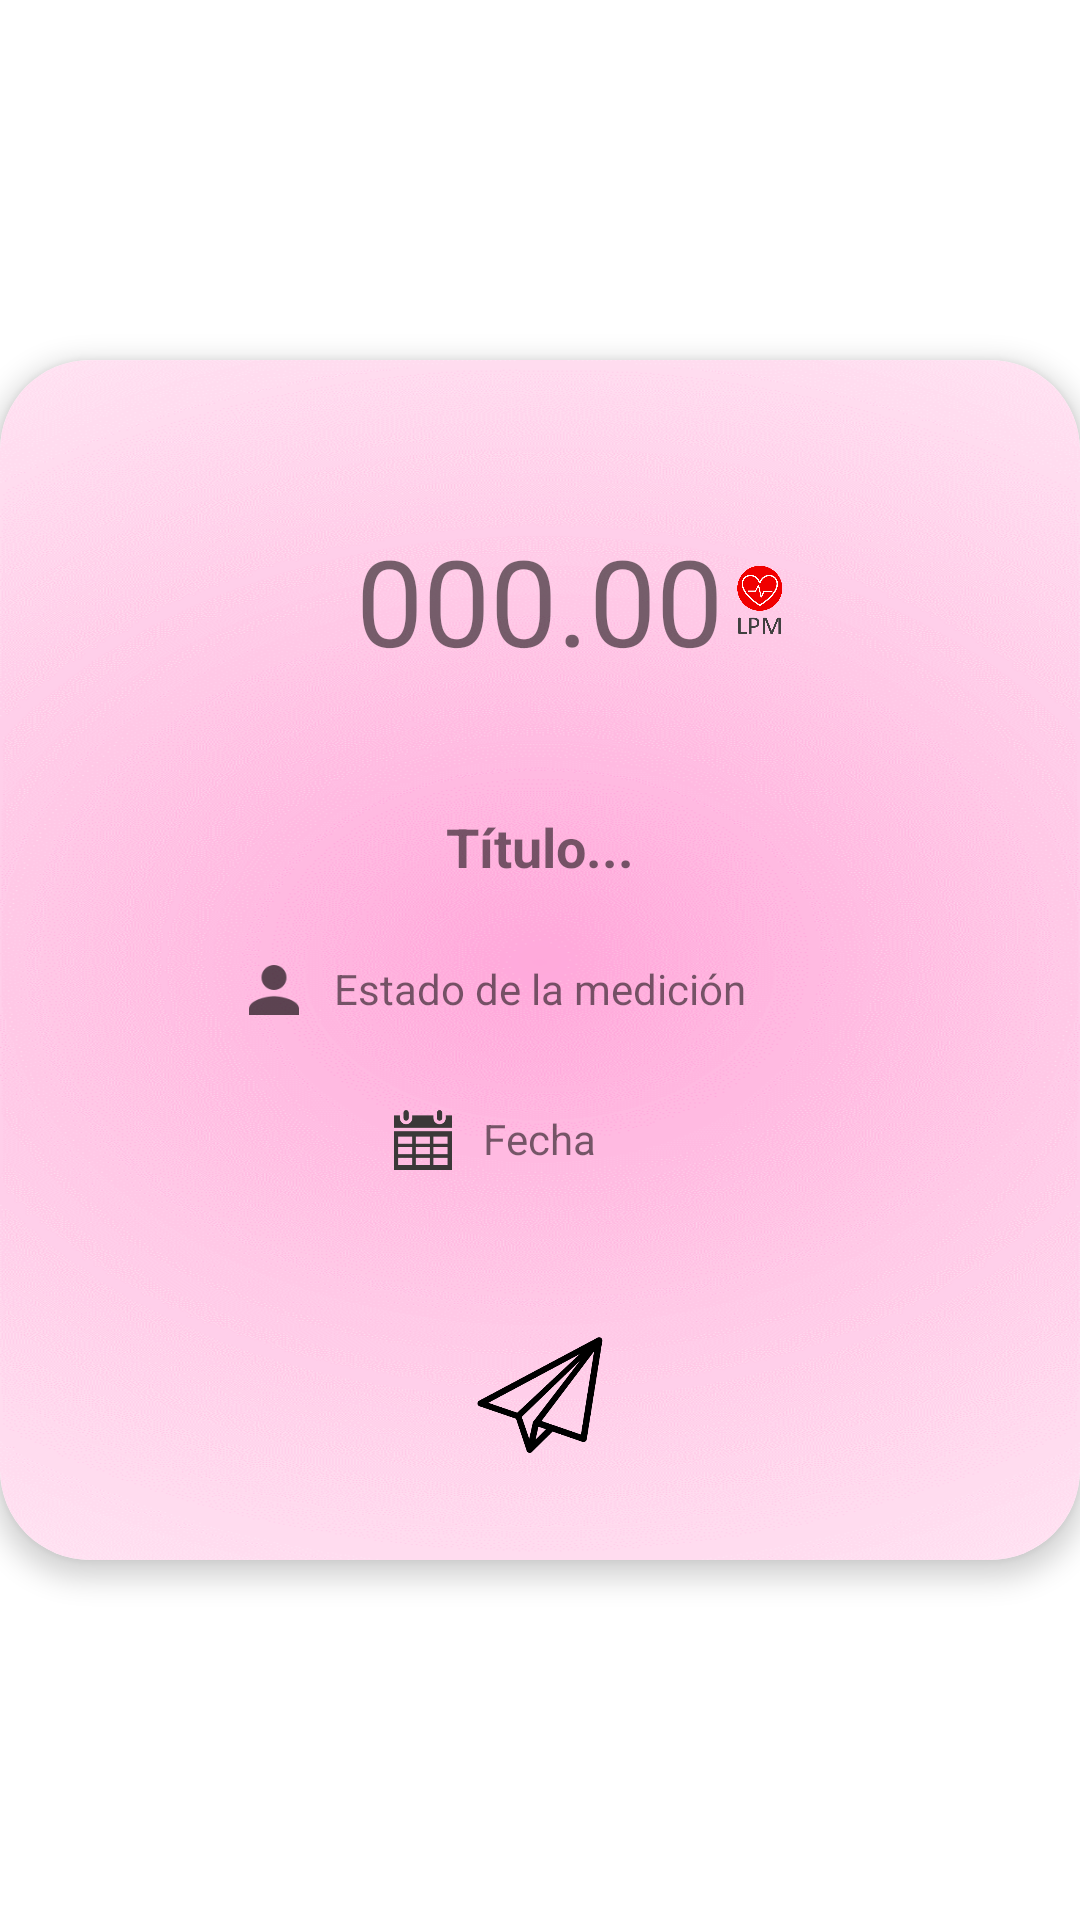

Screen size 1080px x 1920px. Icon name, then its center in pixels as point (x, y):
enviar: point (540, 1395)
iconusersimple: point (274, 990)
